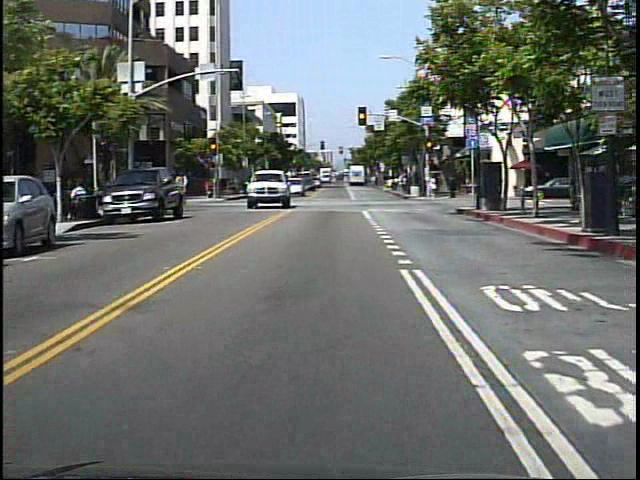person: (172, 169, 193, 203), (447, 172, 462, 204), (427, 176, 440, 200), (206, 176, 215, 199)
